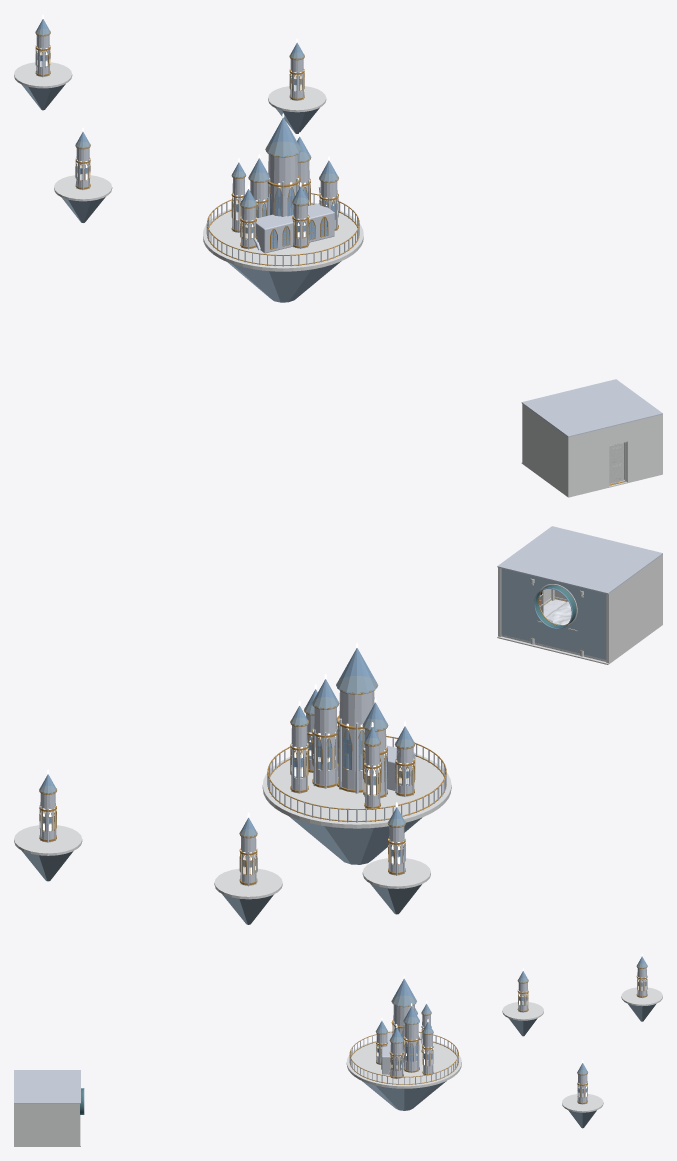
File: sky-castle.glb
The picture shows the model from 3 angles, top to bottom: view 1: azimuth 30°, elevation 25°; view 2: azimuth 150°, elevation 25°; view 3: azimuth 270°, elevation 25°; orthographic projection. The views are drawn at different scales.
Visible parts, largest first — view 1: Sky_Castle_distant alabaster, Sky_Castle_porcelain, Room_Ceiling, Sky_Castle_opal facets, Sky_Castle_floating chalk, Sky_Castle_champagne gold, Room_Wall_L, Room_Wall_F_L, Room_Wall_F_R, Sky_Castle_starlight; view 2: Sky_Castle_porcelain, Sky_Castle_distant alabaster, Room_Ceiling, Sky_Window_Masonry, Sky_Castle_opal facets, Sky_Castle_floating chalk, Sky_Castle_champagne gold, Room_Wall_L, Sky_Castle_starlight, Sky_Cloud_Floor; view 3: Sky_Castle_porcelain, Sky_Castle_distant alabaster, Room_Wall_R, Room_Ceiling, Sky_Castle_champagne gold, Sky_Castle_opal facets, Sky_Castle_floating chalk, Sky_Castle_starlight.
Part boxes in pixels (<box>): Sky_Castle_distant alabaster: <box>36,35,359,266</box>; Sky_Castle_porcelain: <box>14,62,363,271</box>; Room_Ceiling: <box>521,379,662,437</box>; Sky_Castle_opal facets: <box>35,19,338,248</box>; Sky_Castle_floating chalk: <box>21,84,341,302</box>; Sky_Castle_champagne gold: <box>35,31,359,265</box>; Room_Wall_L: <box>522,404,567,495</box>; Room_Wall_F_L: <box>567,427,609,496</box>; Room_Wall_F_R: <box>626,414,662,482</box>; Sky_Castle_starlight: <box>36,14,337,239</box>; Sky_Castle_porcelain: <box>14,753,451,899</box>; Sky_Castle_distant alabaster: <box>40,691,446,886</box>; Room_Ceiling: <box>497,526,662,594</box>; Sky_Window_Masonry: <box>501,568,606,659</box>; Sky_Castle_opal facets: <box>39,648,415,874</box>; Sky_Castle_floating chalk: <box>21,816,422,924</box>; Sky_Castle_champagne gold: <box>39,682,446,885</box>; Room_Wall_L: <box>606,556,662,663</box>; Sky_Castle_starlight: <box>39,643,414,874</box>; Sky_Cloud_Floor: <box>543,599,571,625</box>; Sky_Castle_porcelain: <box>346,987,662,1112</box>; Sky_Castle_distant alabaster: <box>349,968,647,1104</box>; Room_Wall_R: <box>16,1103,79,1145</box>; Room_Ceiling: <box>14,1070,80,1103</box>; Sky_Castle_champagne gold: <box>349,964,647,1103</box>; Sky_Castle_opal facets: <box>375,956,647,1097</box>; Sky_Castle_floating chalk: <box>362,1004,655,1128</box>; Sky_Castle_starlight: <box>376,953,647,1096</box>.
Size of the model in its own units: 17 by 9.97 by 43.65.
30 materials, 6 textured.
